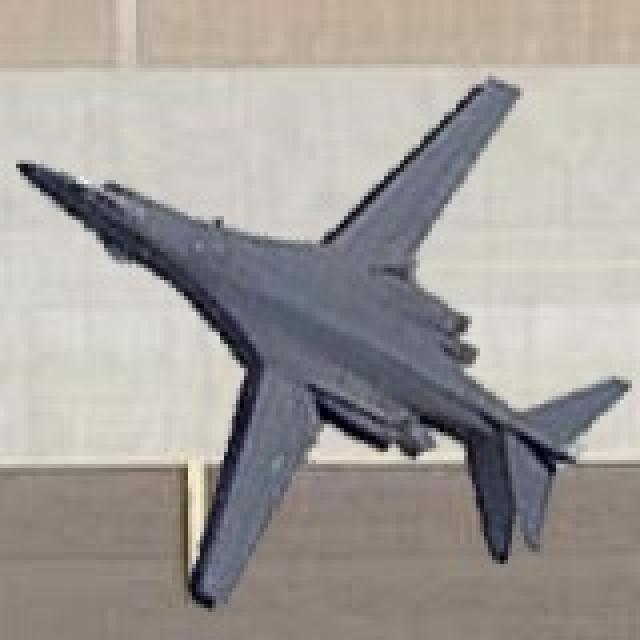B-1_TopDown: (8, 68, 632, 608)
